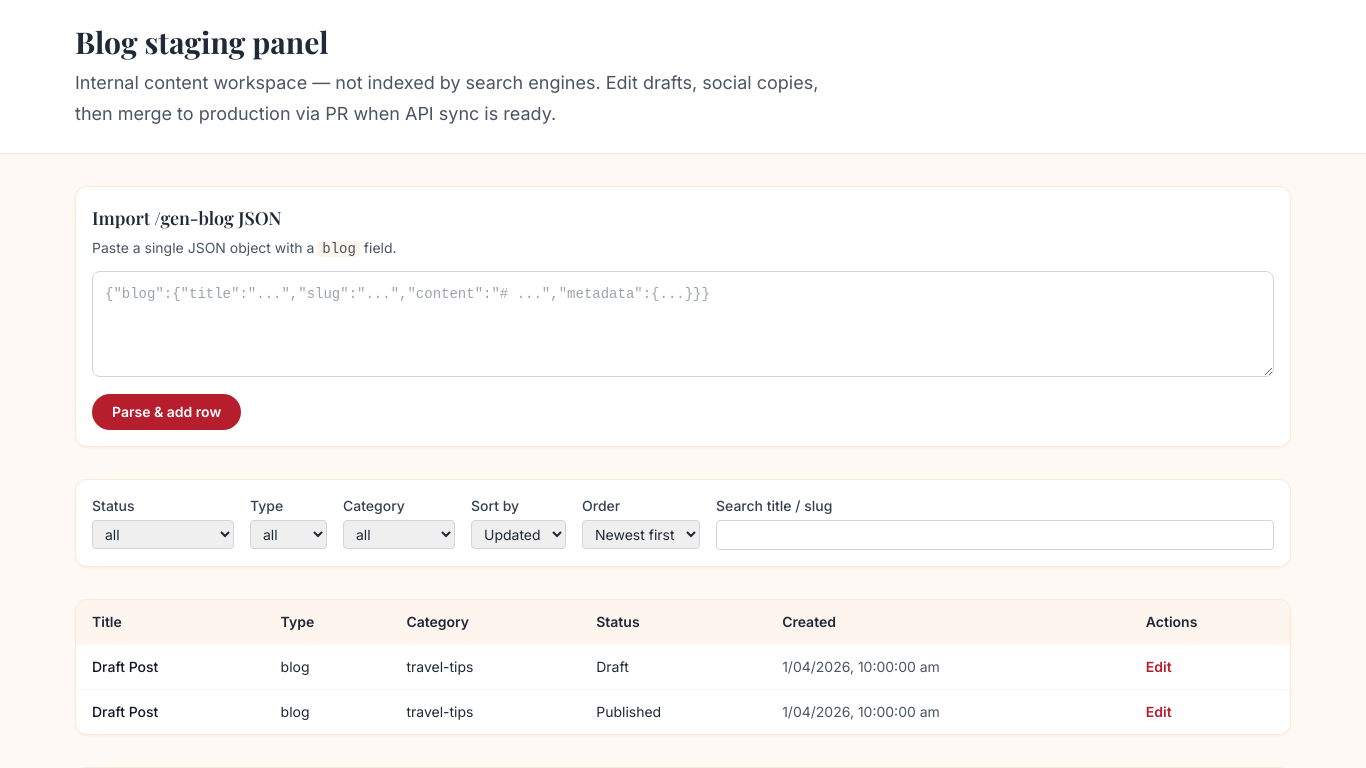
StagingPanel › shows empty state when filters exclude all
The width and height of the screenshot is (1366, 768).
Select "pending-review" in the dropdown labelled "Status" at coordinates (163, 535), box [92, 520, 234, 549]
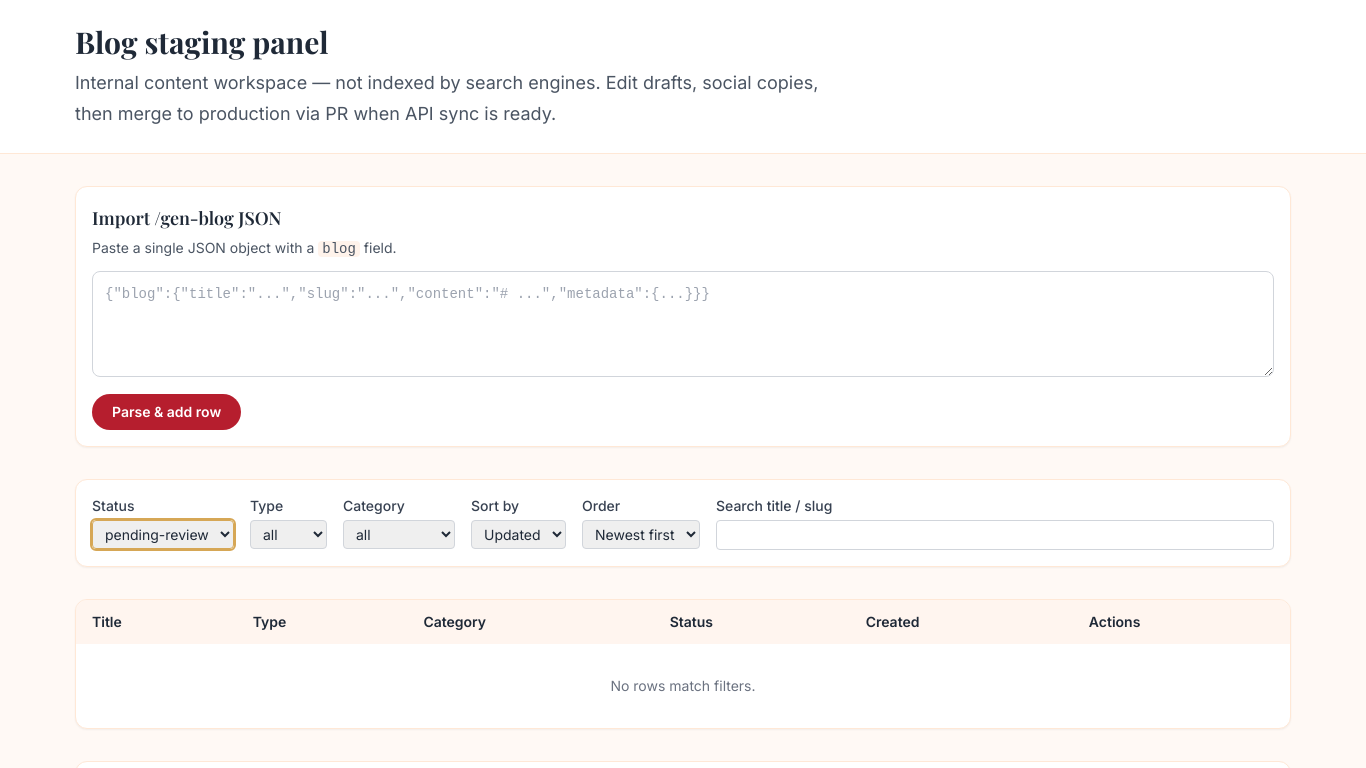
Expected: the text "No rows match filters." is shown, [76, 644, 1290, 728]
